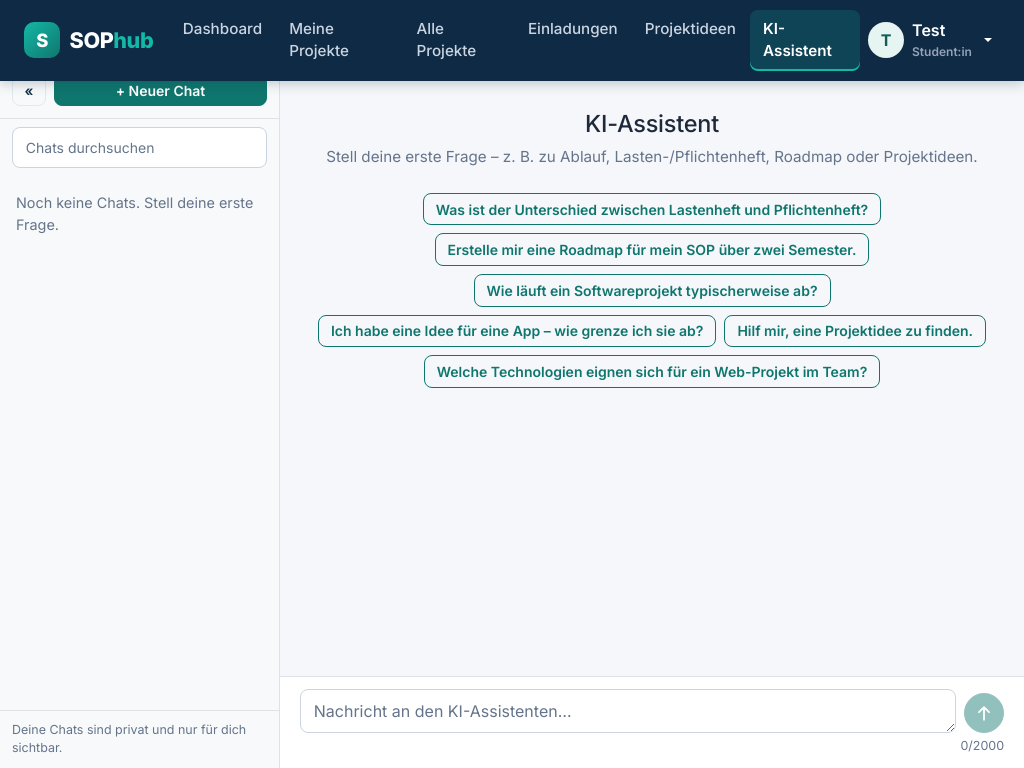
Test: SopAssistent › zeigt bei 503 eine KI-Fehlermeldung mit 'Erneut versuchen'
(page scrolled)
Type "Hallo" into the text box labelled "Nachricht" at (628, 711), box [300,690,956,733]
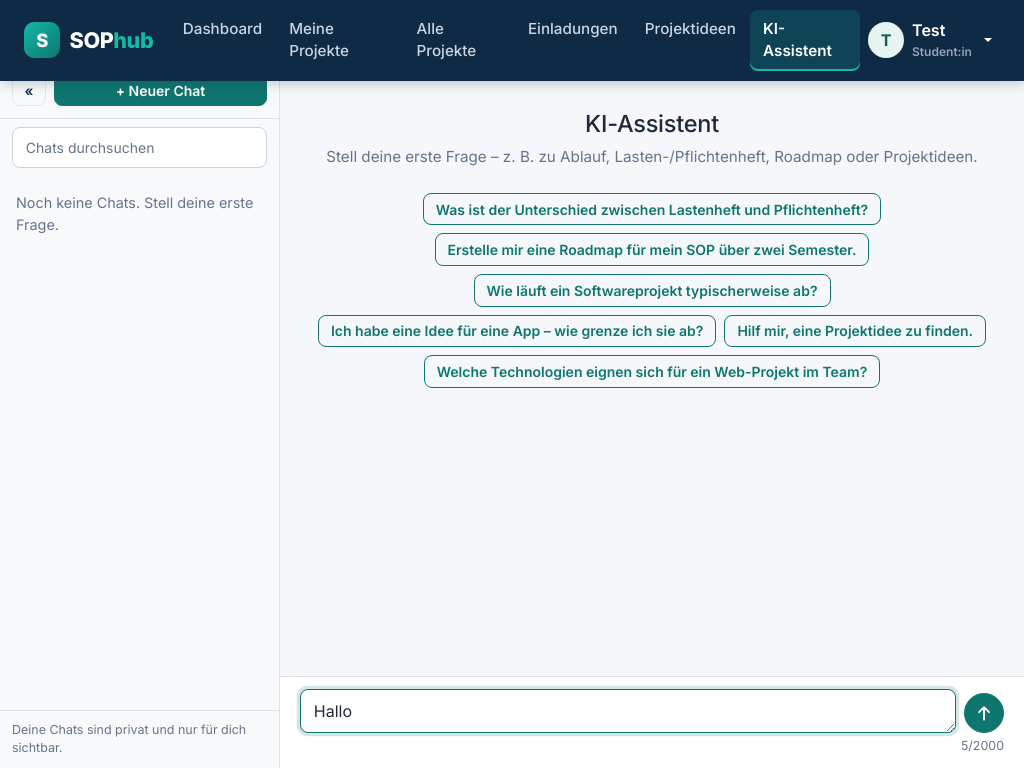
Click the button named "Senden" at (984, 713), box [964,693,1004,733]
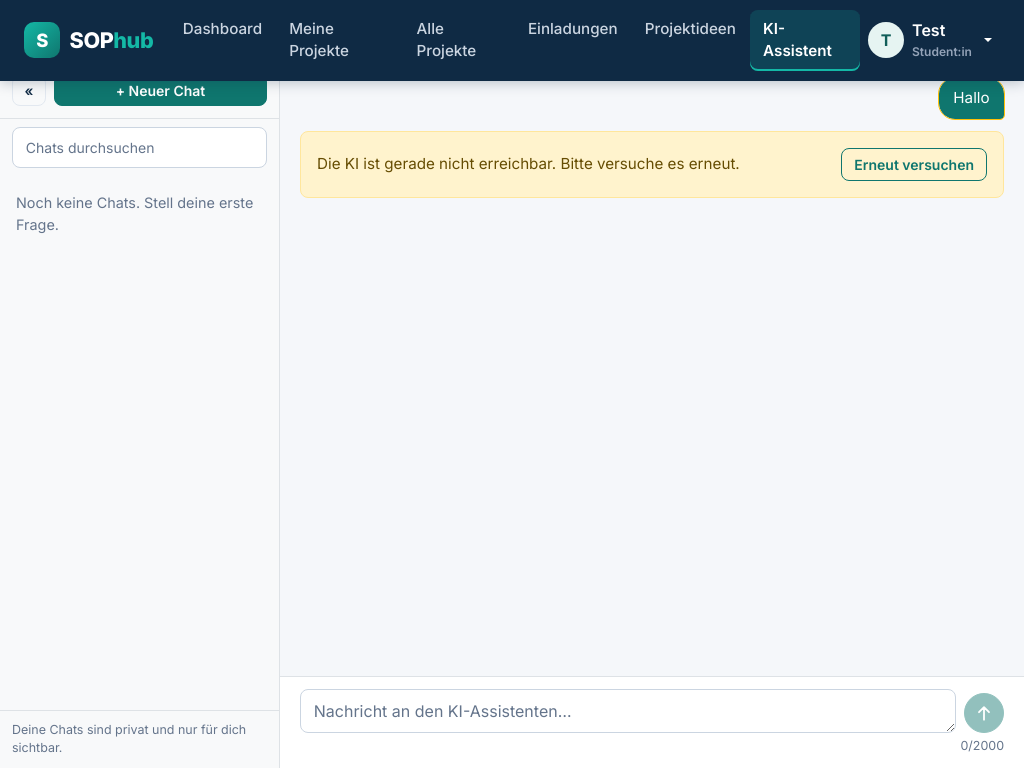
Result: the text "nicht erreichbar" is shown at [317,154,740,173]
Result: the button "Erneut versuchen" is shown at [841,148,987,181]
